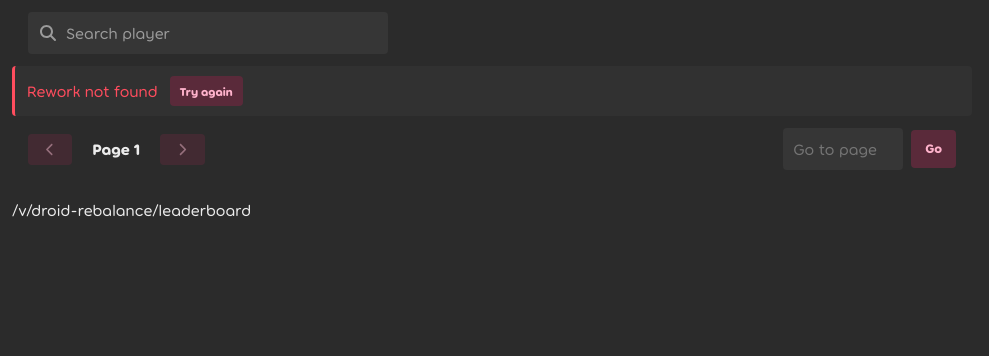
Scenario: LeaderboardTab › shows the error and retries
Check: the message shows "Rework not found", box [27, 81, 158, 100]
What coordinates should you click on to do the following:
click the button "Try again"
I would click on:
 (206, 91)
Its box is [170, 76, 242, 106].
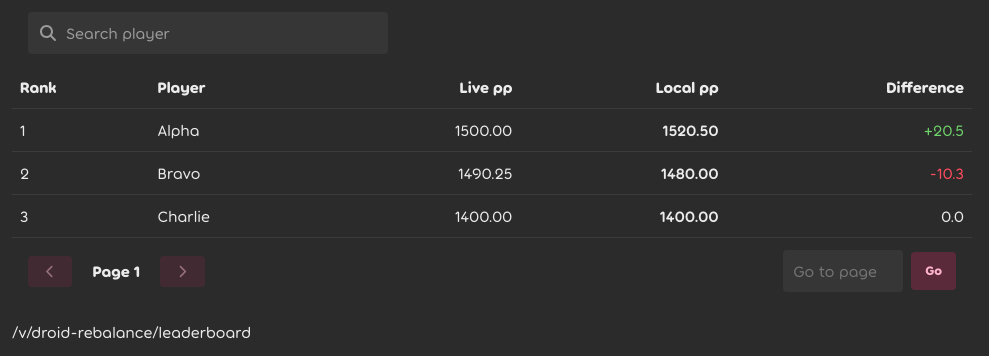
Check: the text "Alpha" is shown, box [150, 108, 328, 152]
